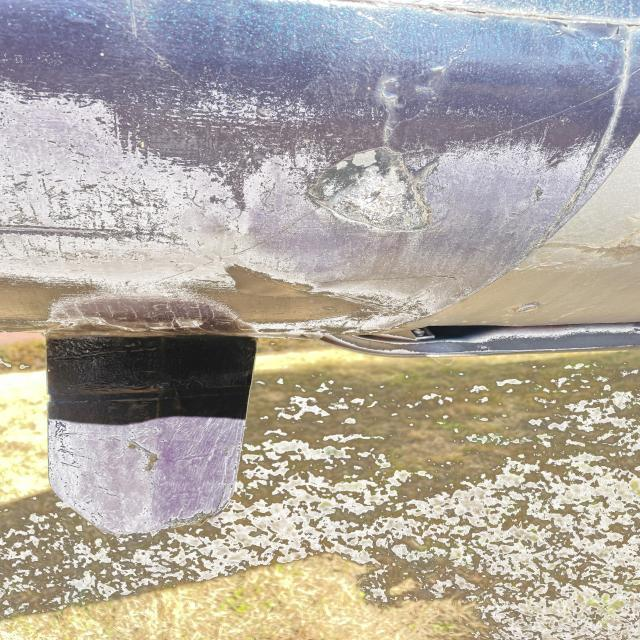crack: (367, 77, 437, 108)
dent: (297, 145, 449, 234)
